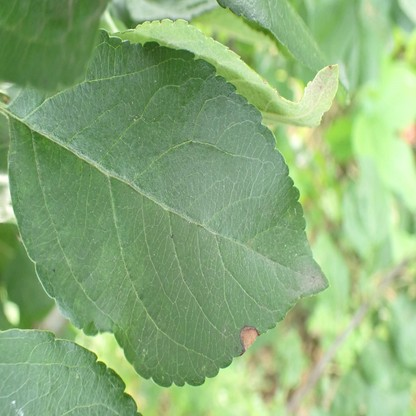frogeye_leaf_spot: (239, 327, 259, 352)
powdery_mildew: (293, 257, 325, 292), (236, 0, 268, 26), (305, 72, 328, 107)
